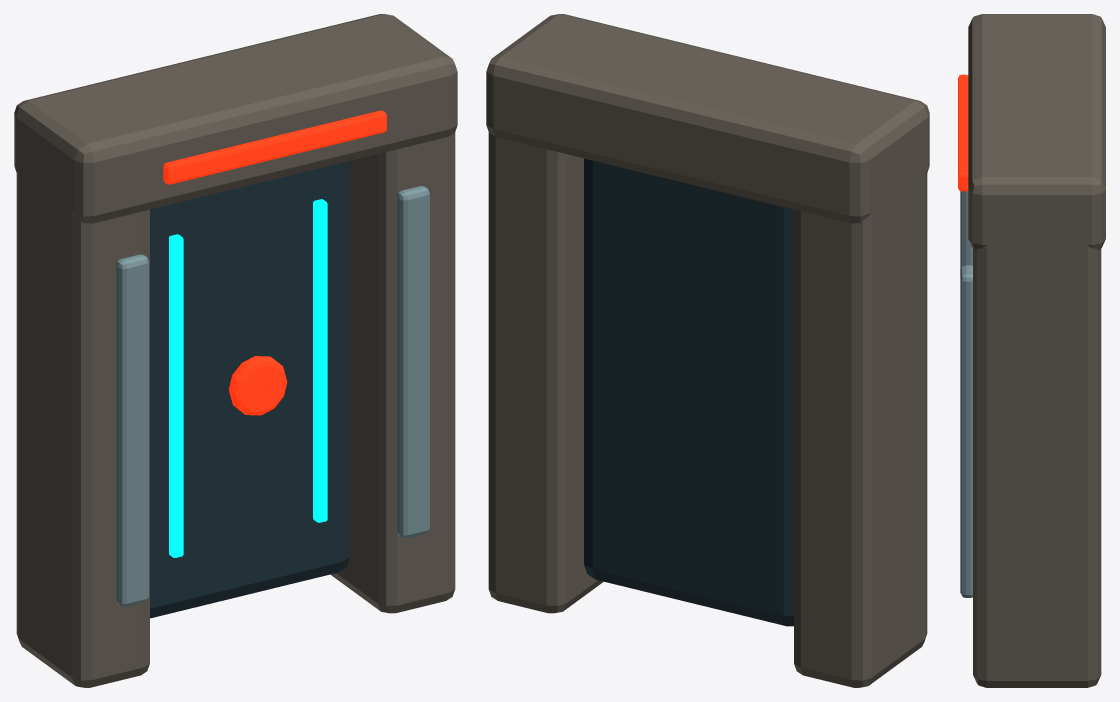
Rendered from Door.glb.
3 views of the same model, side by side, from view 1: azimuth 30°, elevation 25°; view 2: azimuth 150°, elevation 25°; view 3: azimuth 270°, elevation 25° (orthographic). The views are drawn at different scales.
Visible parts, largest first — view 1: Door_Panel, Door_StonePillar_-0.72, Door_TopBeam, Door_StonePillar_0.72, Door_MetalInset_0.72, Door_MetalInset_-0.72, Door_TopGlow, Door_PanelLine_L, Door_PanelLine_R, Door_LockCore; view 2: Door_Panel, Door_StonePillar_-0.72, Door_TopBeam, Door_StonePillar_0.72; view 3: Door_StonePillar_0.72, Door_TopBeam, Door_MetalInset_0.72, Door_TopGlow, Door_MetalInset_-0.72.
Boxes of the visible parts, x1,y1,x2,y2 form: Door_Panel: (150, 161, 350, 618); Door_StonePillar_-0.72: (16, 155, 149, 687); Door_TopBeam: (14, 14, 457, 223); Door_StonePillar_0.72: (330, 132, 455, 613); Door_MetalInset_0.72: (396, 186, 429, 538); Door_MetalInset_-0.72: (116, 254, 148, 606); Door_TopGlow: (163, 110, 386, 184); Door_PanelLine_L: (169, 234, 183, 557); Door_PanelLine_R: (313, 199, 327, 522); Door_LockCore: (228, 356, 287, 415); Door_Panel: (584, 158, 793, 626); Door_StonePillar_-0.72: (794, 155, 927, 687); Door_TopBeam: (486, 14, 929, 223); Door_StonePillar_0.72: (488, 132, 603, 613); Door_StonePillar_0.72: (973, 228, 1101, 687); Door_TopBeam: (968, 14, 1105, 250); Door_MetalInset_0.72: (960, 265, 972, 597); Door_TopGlow: (958, 74, 968, 191); Door_MetalInset_-0.72: (960, 191, 972, 270).
Bounding box in the file's own units: 1.8 × 2.46 × 0.645.
